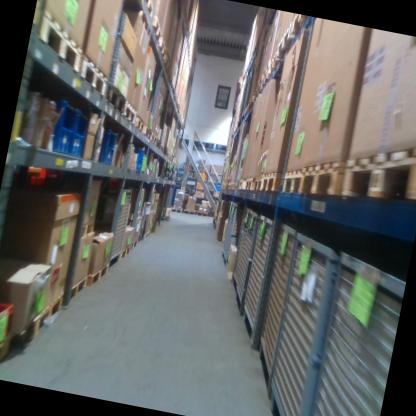pallet: (335, 137, 413, 213), (33, 8, 89, 75), (298, 154, 345, 205), (27, 287, 63, 345), (75, 49, 113, 98), (281, 163, 306, 198), (84, 257, 109, 291), (275, 17, 294, 59), (66, 269, 89, 303), (105, 83, 127, 113), (259, 168, 283, 195), (78, 215, 96, 245), (120, 98, 139, 126), (267, 50, 282, 78), (149, 14, 164, 42), (259, 57, 271, 91), (156, 36, 169, 61), (118, 241, 131, 263), (252, 172, 264, 195), (133, 114, 146, 135), (244, 174, 257, 194), (253, 72, 262, 99), (127, 206, 141, 223), (141, 124, 153, 141), (247, 91, 257, 111), (236, 175, 247, 193), (128, 237, 138, 255), (224, 263, 234, 279), (148, 131, 158, 146), (166, 81, 176, 95), (171, 89, 179, 105), (142, 228, 150, 243), (134, 230, 142, 245), (243, 101, 249, 119), (148, 211, 157, 222), (146, 202, 154, 214), (182, 207, 194, 214), (195, 209, 207, 216), (170, 207, 182, 213), (158, 143, 165, 153), (155, 137, 161, 148), (229, 182, 235, 192), (226, 182, 231, 192), (219, 238, 224, 247), (163, 147, 168, 155), (234, 182, 238, 190), (224, 183, 228, 191), (228, 176, 232, 184), (166, 150, 170, 158), (226, 177, 229, 184)
small_load_carrier: (43, 94, 81, 158), (69, 108, 93, 160), (97, 126, 119, 165), (132, 144, 146, 172)
stillage: (307, 241, 410, 416), (261, 226, 342, 416), (247, 217, 303, 397), (235, 210, 282, 353), (84, 178, 135, 274), (230, 205, 263, 316), (229, 203, 253, 293), (222, 200, 246, 267), (218, 199, 234, 260)
